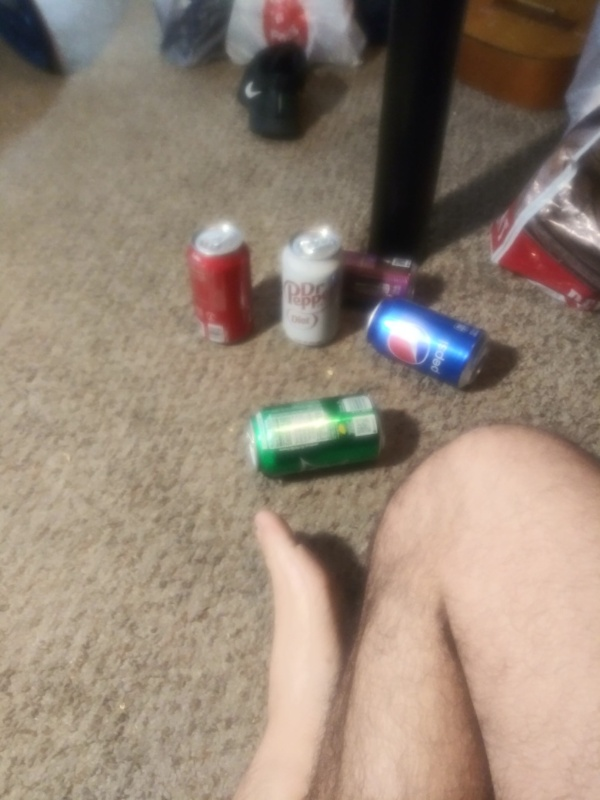can: (248, 389, 390, 484), (360, 294, 496, 390), (182, 222, 262, 350), (277, 222, 349, 346), (340, 250, 431, 310)
